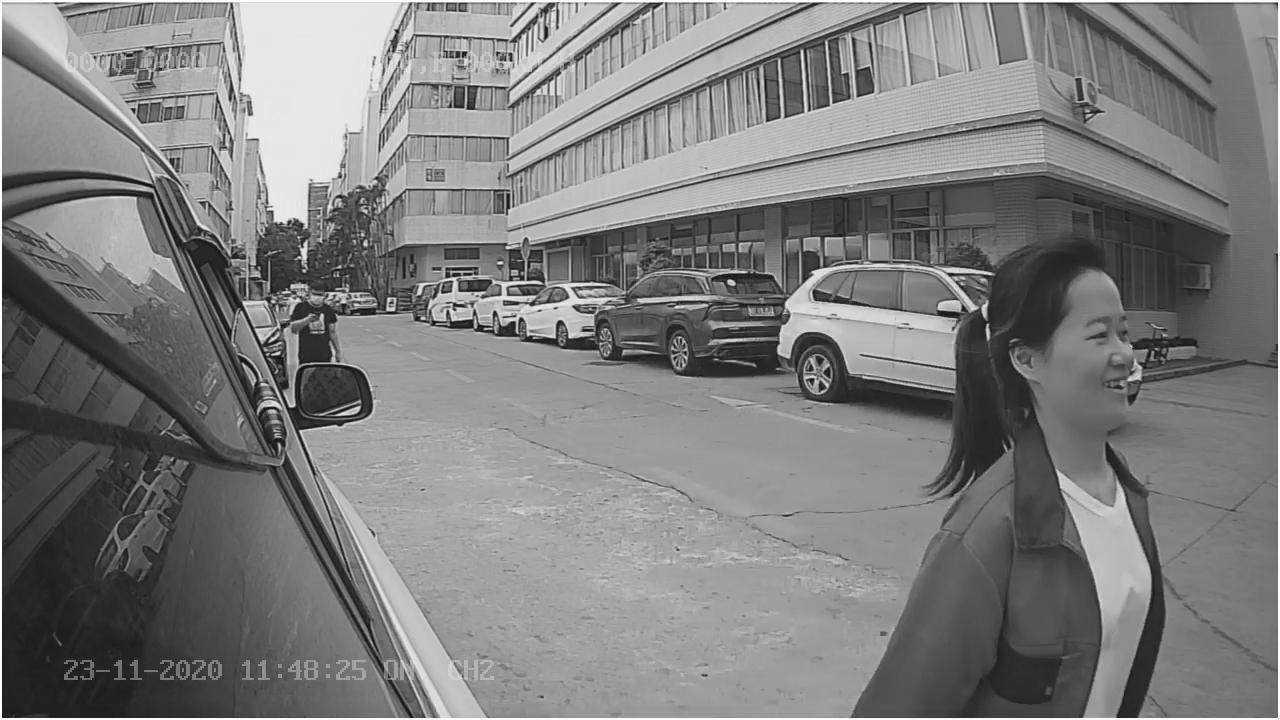person: (870, 221, 1172, 690)
